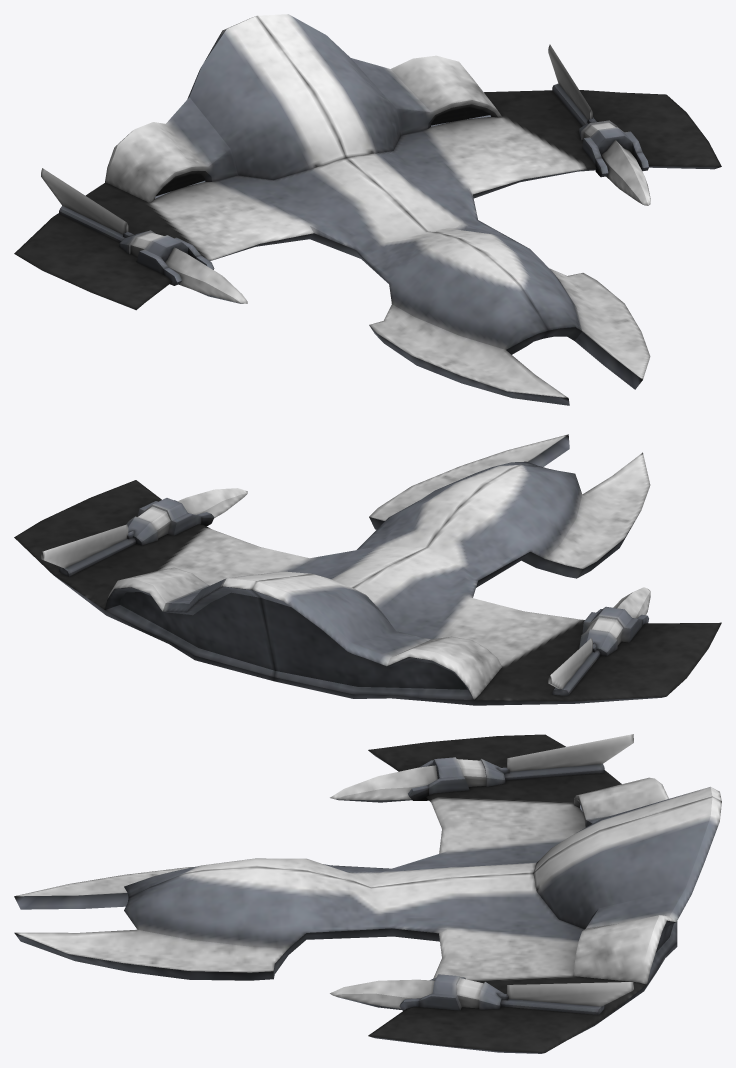
File: Consorzio_2.fbx
3 renders of one model, top to bottom at view 1: azimuth 30°, elevation 25°; view 2: azimuth 150°, elevation 25°; view 3: azimuth 270°, elevation 25°, orthographic.
Visible parts, largest first — view 1: Texture, Colore1; view 2: Texture, Colore1; view 3: Texture, Colore1.
Boxes of the visible parts, <box> form: Texture: <box>14,14,721,405</box>; Colore1: <box>41,14,650,397</box>; Texture: <box>14,434,721,705</box>; Colore1: <box>41,434,650,699</box>; Texture: <box>14,734,719,1053</box>; Colore1: <box>15,734,721,1008</box>.
Size of the model in its own units: 4.57 by 0.8928 by 4.29.
Materials: 2 (2 with a texture image).
